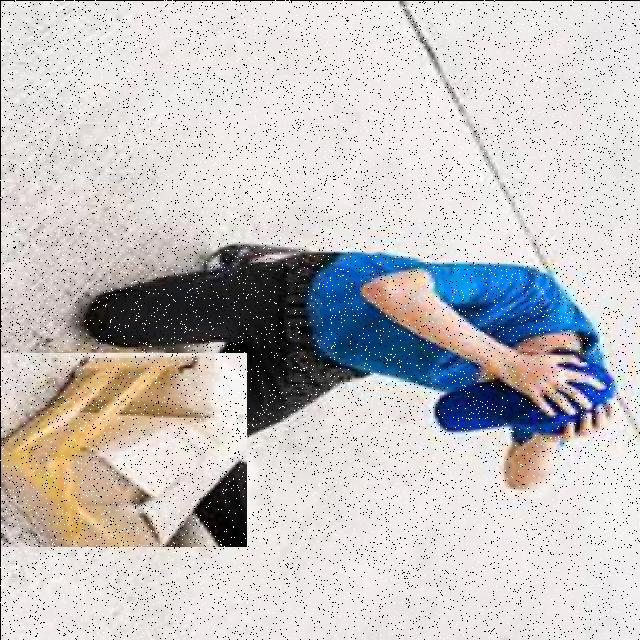defect: (0, 352, 246, 546)
